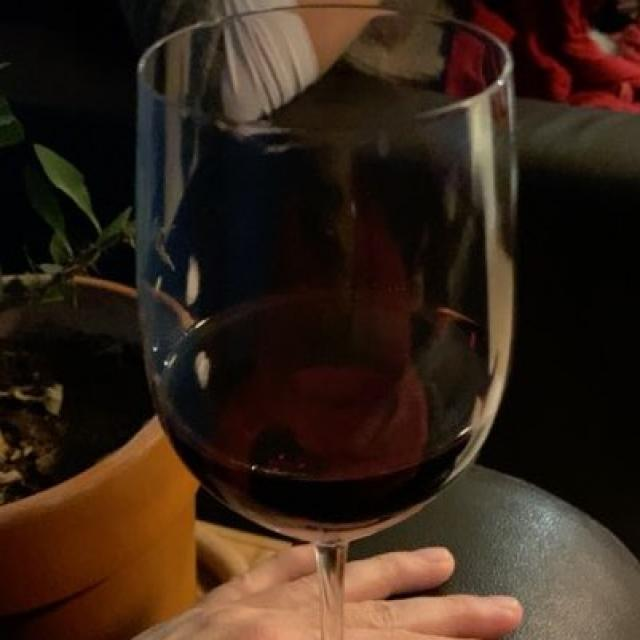wine: (167, 286, 484, 562)
